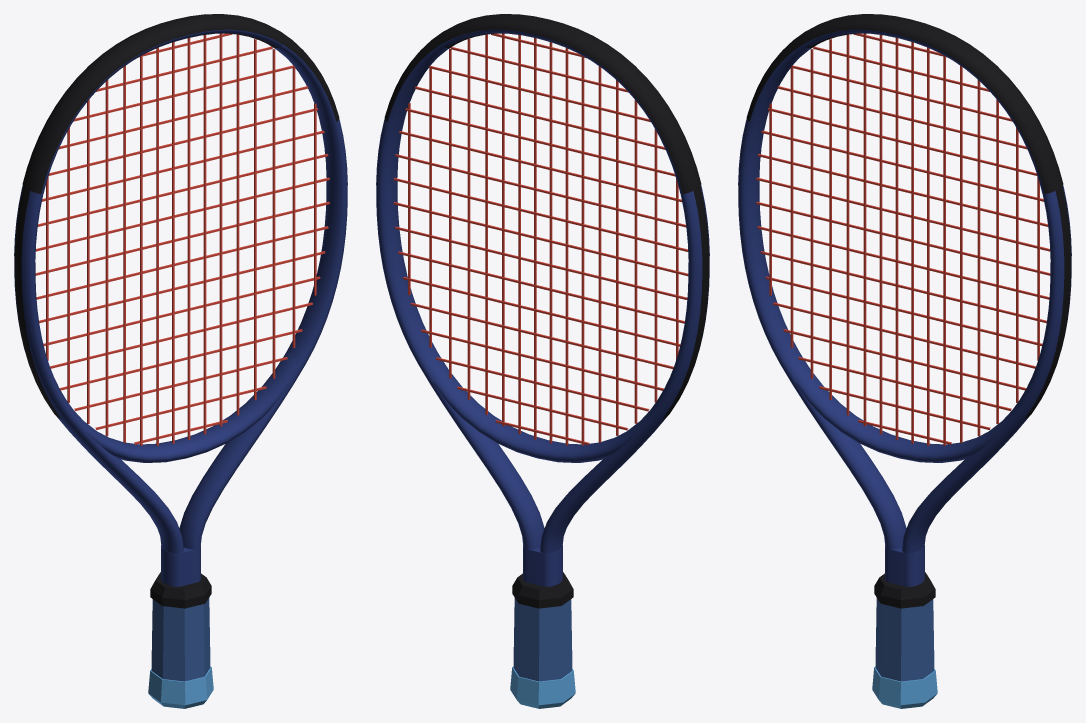
Rendered from head-paw-patrol-junior-19.glb.
The picture shows the model from 3 angles, left to right: view 1: azimuth 30°, elevation 25°; view 2: azimuth 150°, elevation 25°; view 3: azimuth 330°, elevation 25°; orthographic projection.
Visible parts, largest first — view 1: frame, strings_mains, strings_crosses, bumper, grip, butt_cap, grommets, collar; view 2: frame, strings_mains, strings_crosses, bumper, grip, butt_cap, grommets, collar; view 3: frame, strings_mains, strings_crosses, bumper, grip, butt_cap, grommets, collar.
Part boxes in pixels (<box>): frame: <box>14,29,347,586</box>; strings_mains: <box>46,33,316,445</box>; strings_crosses: <box>35,33,329,444</box>; bumper: <box>22,14,339,193</box>; grip: <box>151,598,210,681</box>; butt_cap: <box>148,666,213,708</box>; grommets: <box>14,186,60,418</box>; collar: <box>150,572,211,608</box>; frame: <box>376,29,709,586</box>; strings_mains: <box>408,33,678,445</box>; strings_crosses: <box>393,33,688,445</box>; bumper: <box>384,14,701,193</box>; grip: <box>513,598,572,681</box>; butt_cap: <box>510,666,575,708</box>; grommets: <box>663,186,709,418</box>; collar: <box>512,572,573,608</box>; frame: <box>738,29,1071,586</box>; strings_mains: <box>769,33,1039,445</box>; strings_crosses: <box>756,33,1050,444</box>; bumper: <box>746,14,1063,193</box>; grip: <box>875,598,934,681</box>; butt_cap: <box>872,666,937,708</box>; grommets: <box>1025,186,1071,418</box>; collar: <box>874,572,935,608</box>.
Size of the model in its own units: 0.2449 by 0.4829 by 0.0396.
